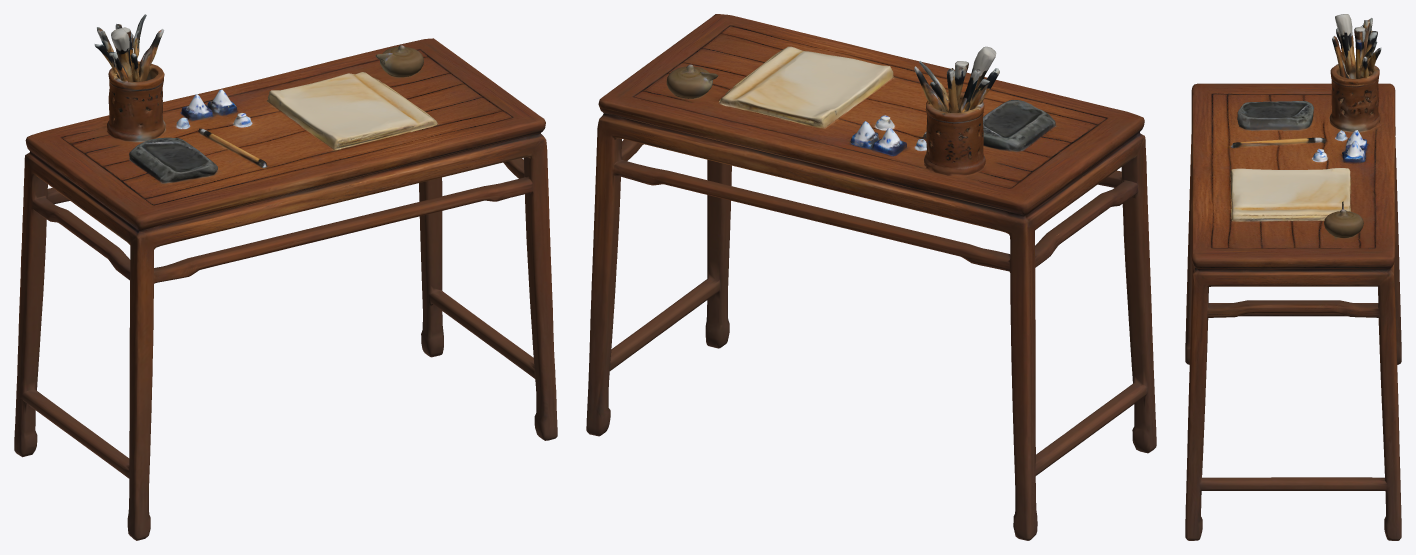
The model's file is f_shuan.glb.
3 views of the same model, side by side, from view 1: azimuth 30°, elevation 25°; view 2: azimuth 150°, elevation 25°; view 3: azimuth 270°, elevation 25° (orthographic). The views are drawn at different scales.
Visible parts, largest first — view 1: tripo_node_3be63770-e6be-4cbc-89ce-08b6674cffe0; view 2: tripo_node_3be63770-e6be-4cbc-89ce-08b6674cffe0; view 3: tripo_node_3be63770-e6be-4cbc-89ce-08b6674cffe0.
Part boxes in pixels (left/top/right/bottom): tripo_node_3be63770-e6be-4cbc-89ce-08b6674cffe0: left=14, top=14, right=557, bottom=540; tripo_node_3be63770-e6be-4cbc-89ce-08b6674cffe0: left=586, top=14, right=1156, bottom=540; tripo_node_3be63770-e6be-4cbc-89ce-08b6674cffe0: left=1185, top=14, right=1401, bottom=540.
Bounding box in the file's own units: 0.9999 × 0.9694 × 0.5031.
1 material, 1 textured.
